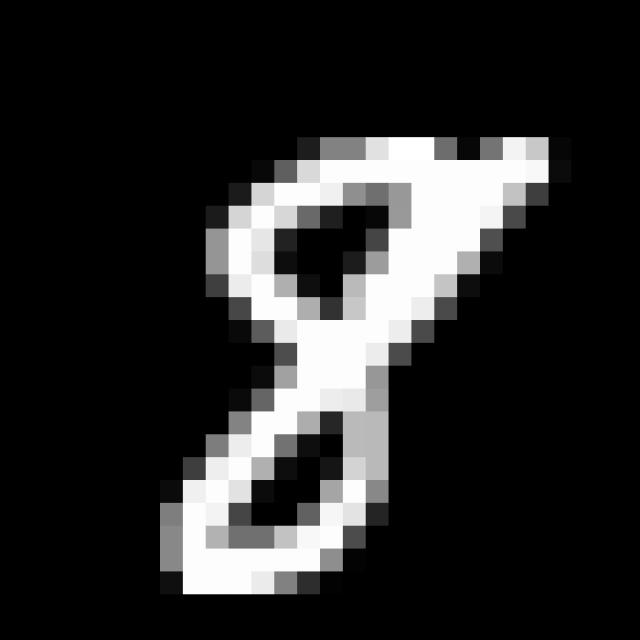eight -8-: (153, 114, 554, 594)
